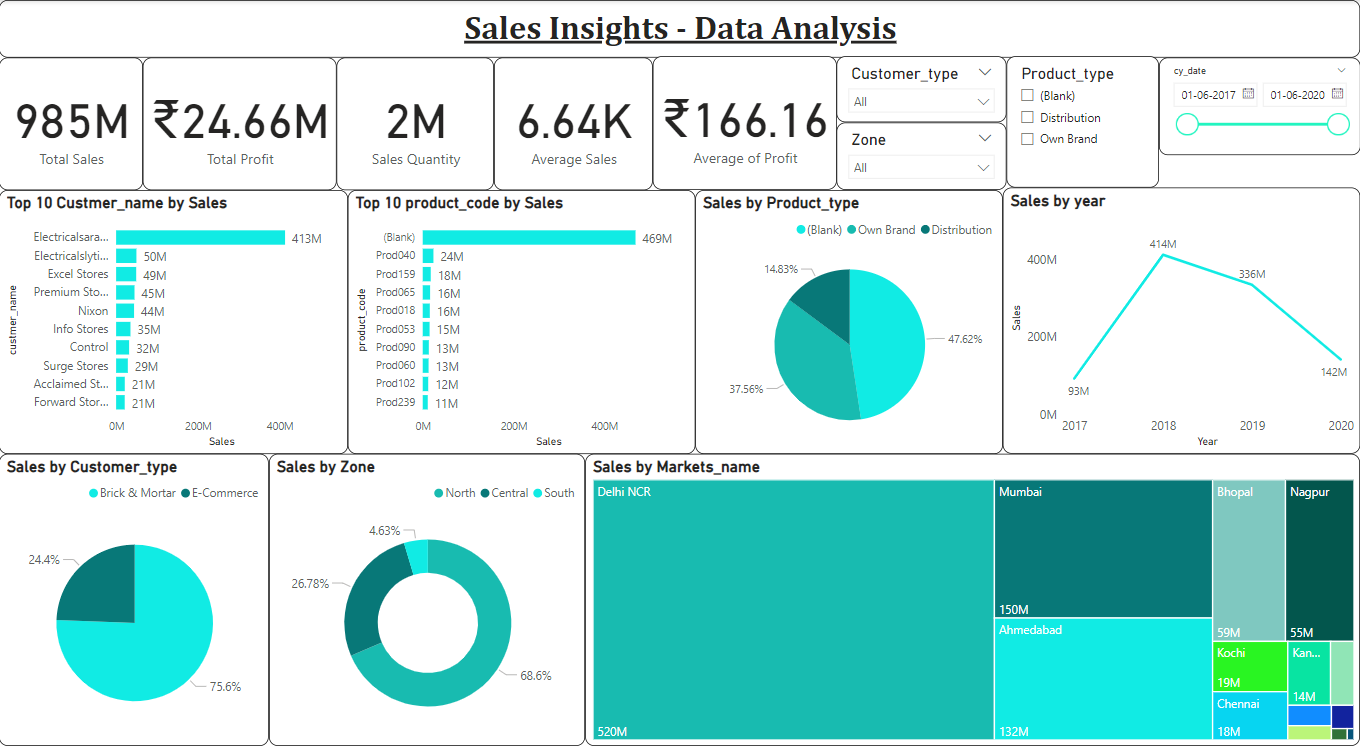

The dashboard page shown, as its layout file describes it:
{"tool":"powerbi","page":{"name":"Key Insights - Sales Analysis","canvas":[1550,850],"ordinal":0},"visuals":[{"type":"textbox","box":[0,0,1550.5,65.5],"z":0},{"type":"card","fields":{"Values":["Sum(sales transactions.norm_sales_amount)"]},"box":[0,65.5,163.7,150.9],"z":1000},{"type":"card","fields":{"Values":["Sum(sales transactions.Profit_Margin)"]},"box":[163.7,65.5,220.7,150.9],"z":2000},{"type":"card","fields":{"Values":["Sum(sales transactions.sales_qty)"]},"box":[384.4,65.5,179.4,150.9],"z":3000},{"type":"card","fields":{"Values":["Avg(sales transactions.norm_sales_amount)"]},"box":[563.8,65.5,180.8,150.9],"z":4000},{"type":"clusteredBarChart","title":"Top 10 Custmer_name by Sales","fields":{"Category":["sales Customer.custmer_name"],"Y":["Sum(sales transactions.norm_sales_amount)"]},"box":[0,216.4,397.2,300.4],"z":5000},{"type":"clusteredBarChart","title":"Top 10 product_code by Sales","fields":{"Y":["Sum(sales transactions.norm_sales_amount)"],"Category":["sales product.product_code"]},"box":[397.2,216.4,395.8,300.4],"z":6000},{"type":"pieChart","title":"Sales by Customer_type","fields":{"Category":["sales Customer.customer_type"],"Y":["Sum(sales transactions.norm_sales_amount)"]},"box":[0,516.8,307.5,333.2],"z":7000},{"type":"donutChart","title":"Sales by Zone","fields":{"Category":["sales market.zone"],"Y":["Sum(sales transactions.norm_sales_amount)"]},"box":[307.5,516.8,360.2,333.2],"z":8000},{"type":"pieChart","title":"Sales by Product_type","fields":{"Category":["sales product.product_type"],"Y":["Sum(sales transactions.norm_sales_amount)"]},"box":[793,216.4,350.3,300.4],"z":9000},{"type":"treemap","title":"Sales by Markets_name","fields":{"Group":["sales market.markets_name"],"Values":["Sum(sales transactions.norm_sales_amount)"]},"box":[667.8,516.8,882.7,333.2],"z":10000},{"type":"lineChart","title":"Sales by year","fields":{"Category":["sales Date.cy_date.Variation.Date Hierarchy.Year","sales Date.cy_date.Variation.Date Hierarchy.Quarter","sales Date.cy_date.Variation.Date Hierarchy.Month","sales Date.cy_date.Variation.Date Hierarchy.Day"],"Y":["Sum(sales transactions.norm_sales_amount)"]},"box":[1143.3,213.6,407.2,303.3],"z":11000},{"type":"slicer","fields":{"Values":["sales Customer.customer_type"]},"box":[953.9,64.1,193.6,75.5],"z":12000},{"type":"slicer","fields":{"Values":["sales market.zone"]},"box":[953.9,139.5,193.6,76.9],"z":13000},{"type":"slicer","fields":{"Values":["sales product.product_type"]},"box":[1147.6,64.1,173.7,149.5],"z":14000},{"type":"card","fields":{"Values":["Avg(sales transactions.Profit_Margin)"]},"box":[744.6,64.1,209.3,152.3],"z":15000},{"type":"slicer","fields":{"Values":["sales Date.cy_date"]},"box":[1321.3,65.5,229.2,111.1],"z":16000}]}

Visuals, with their boxes in screenshot pixels (x1, y1, x2, y2), scaled from the page's 1550x850 canvas onto the 1360x746 screenshot:
textbox: locate(0, 0, 1359, 57)
card - Sum(sales transactions.norm_sales_amount): locate(0, 57, 144, 190)
card - Sum(sales transactions.Profit_Margin): locate(144, 57, 337, 190)
card - Sum(sales transactions.sales_qty): locate(337, 57, 495, 190)
card - Avg(sales transactions.norm_sales_amount): locate(495, 57, 653, 190)
"Top 10 Custmer_name by Sales" clusteredBarChart: locate(0, 190, 349, 454)
"Top 10 product_code by Sales" clusteredBarChart: locate(349, 190, 696, 454)
"Sales by Customer_type" pieChart: locate(0, 454, 270, 745)
"Sales by Zone" donutChart: locate(270, 454, 586, 745)
"Sales by Product_type" pieChart: locate(696, 190, 1003, 454)
"Sales by Markets_name" treemap: locate(586, 454, 1359, 745)
"Sales by year" lineChart: locate(1003, 187, 1359, 454)
slicer - sales Customer.customer_type: locate(837, 56, 1007, 123)
slicer - sales market.zone: locate(837, 122, 1007, 190)
slicer - sales product.product_type: locate(1007, 56, 1159, 187)
card - Avg(sales transactions.Profit_Margin): locate(653, 56, 837, 190)
slicer - sales Date.cy_date: locate(1159, 57, 1359, 155)
